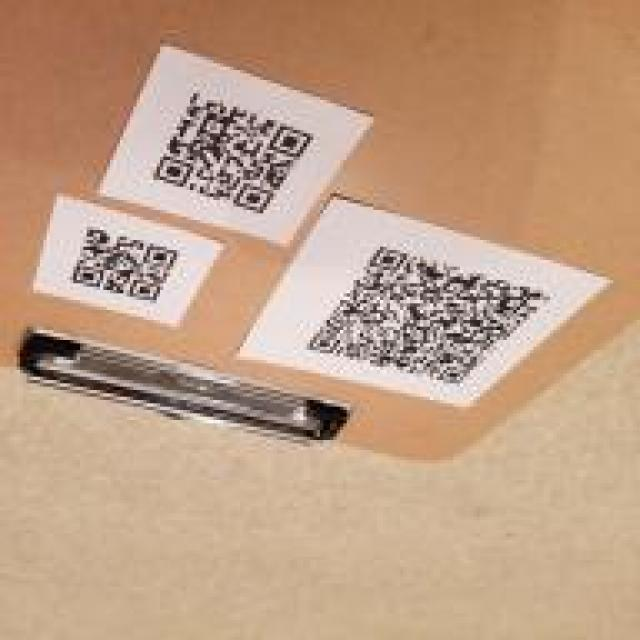qr_code: (306, 246, 548, 386), (153, 93, 312, 214), (70, 228, 177, 302)
